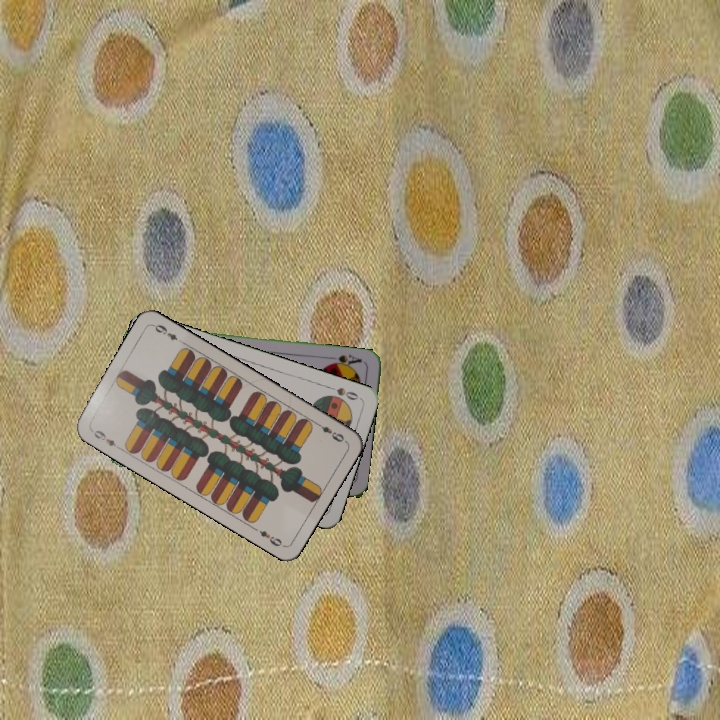E9: (87, 426, 124, 452), (312, 418, 347, 445)
SA: (325, 351, 364, 370)
SO: (324, 382, 363, 403)
